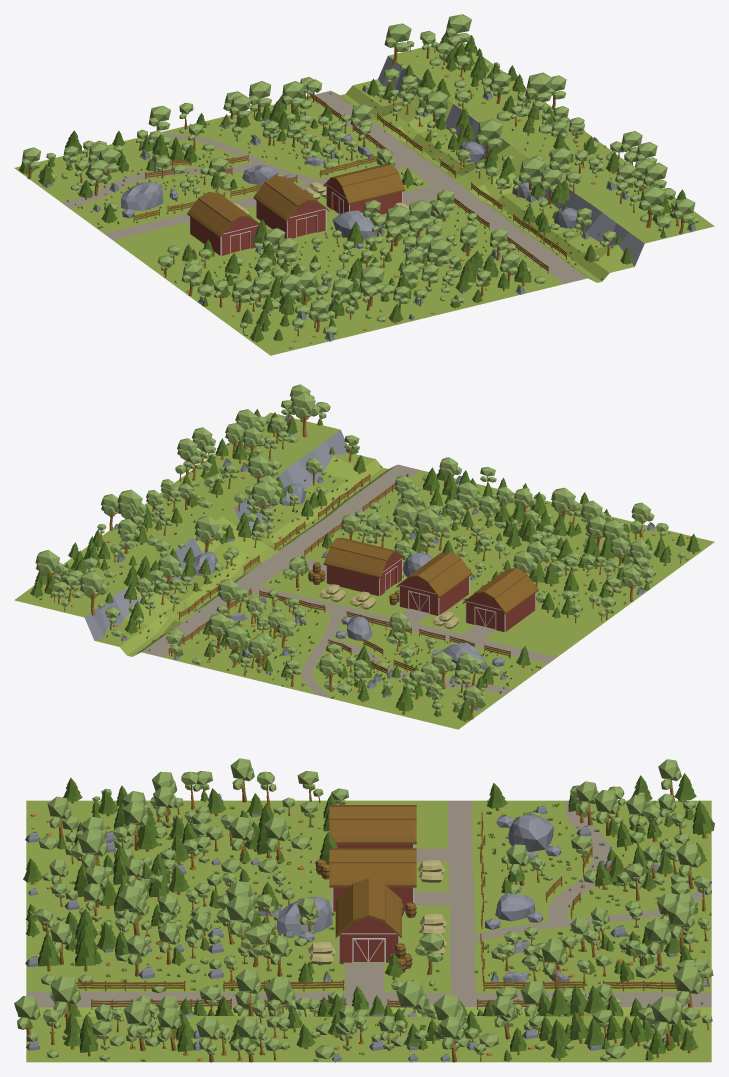
The model's file is HowYouDare.fbx.
3 renders of one model, top to bottom at view 1: azimuth 30°, elevation 25°; view 2: azimuth 150°, elevation 25°; view 3: azimuth 270°, elevation 25°, orthographic. The views are drawn at different scales.
Parts seen in each view (by area): view 1: Plane.002, Barn.001, Barn.002, Barn, Rock.004, Rock.001, Plane.002|Tree|Dupli|144, Tree.041, Tree.141, Tree.153, Tree.053, Tree.077 (+2 smaller); view 2: Plane.002, Barn, Barn.002, Barn.001, Tree.041, Tree.141, Plane.002|Tree|Dupli|144, Tree.053, Plane.002|Tree|Dupli|108, Plane.002|Tree|Dupli|216, Tree.077; view 3: Plane.002, Barn, Barn.001, Barn.002, Rock.004, Rock.001, Plane.002|Tree|Dupli|108, Rock.006, Tree.041, Cylinder.003, Tree.141, Tree.177 (+41 smaller).
Boxes of the visible parts, x1,y1,x2,y2 form: Plane.002: (14, 42, 714, 355); Barn.001: (253, 175, 329, 238); Barn.002: (187, 192, 259, 255); Barn: (323, 163, 405, 214); Rock.004: (121, 182, 163, 210); Rock.001: (332, 210, 379, 240); Plane.002|Tree|Dupli|144: (476, 119, 502, 159); Tree.041: (638, 186, 665, 227); Tree.141: (384, 23, 411, 65); Tree.153: (525, 72, 552, 101); Tree.053: (518, 157, 545, 190); Tree.077: (385, 205, 410, 246); Plane.002: (14, 412, 714, 729); Barn: (323, 537, 405, 596); Barn.002: (463, 568, 538, 632); Barn.001: (396, 552, 472, 615); Tree.041: (291, 392, 320, 437); Tree.141: (79, 571, 108, 615); Plane.002|Tree|Dupli|144: (194, 515, 224, 552); Tree.053: (251, 481, 280, 511); Plane.002|Tree|Dupli|108: (35, 550, 64, 594); Plane.002|Tree|Dupli|216: (551, 487, 579, 519); Tree.077: (415, 508, 443, 551); Plane.002: (26, 800, 711, 1062); Barn: (335, 878, 401, 962); Barn.001: (329, 848, 416, 911); Barn.002: (329, 805, 416, 848); Rock.004: (508, 813, 553, 851); Rock.001: (276, 896, 332, 935); Plane.002|Tree|Dupli|108: (651, 996, 681, 1050); Rock.006: (495, 893, 535, 921); Tree.041: (50, 976, 81, 1026); Cylinder.003: (76, 980, 478, 1009); Tree.141: (673, 966, 703, 1007); Tree.177: (226, 895, 256, 940).
Size of the model in its own units: 3540 by 513 by 3477.
